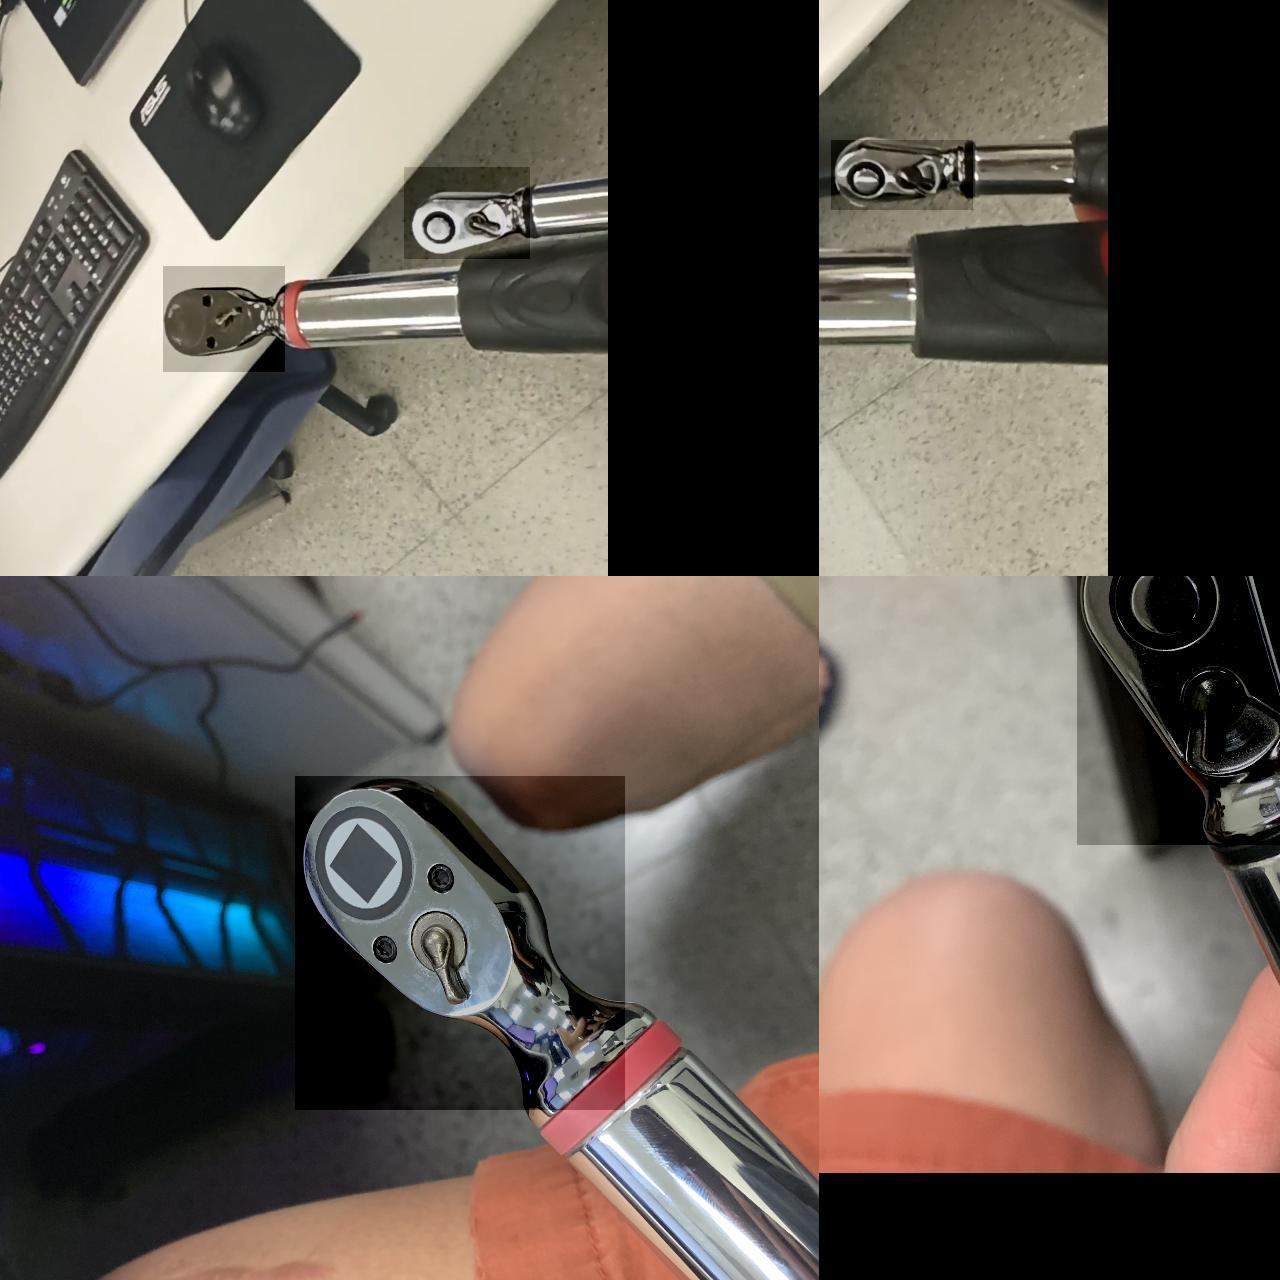Tool: (294, 776, 624, 1110), (1076, 576, 1280, 845), (162, 266, 284, 372), (403, 166, 529, 259), (830, 139, 972, 210)
